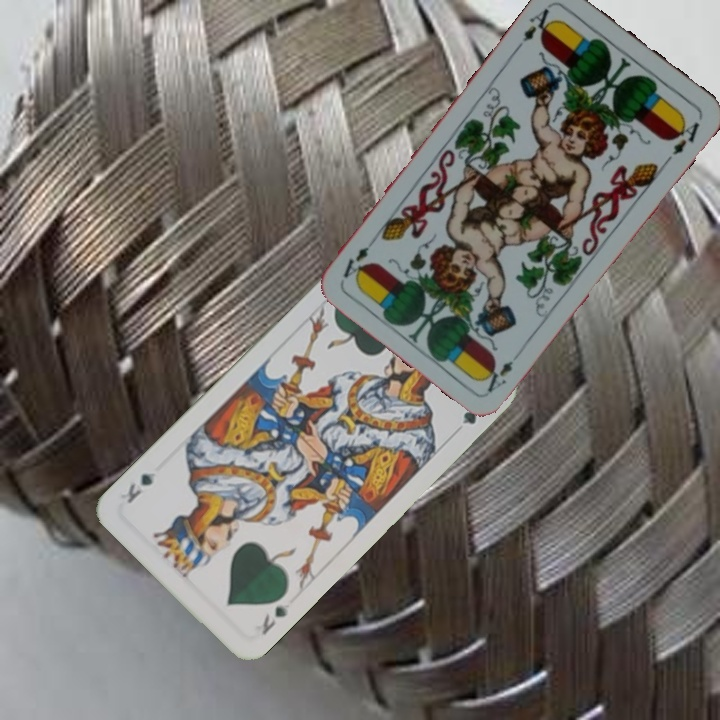EA: (513, 1, 559, 52), (481, 356, 516, 396)
GK: (257, 601, 291, 638)
